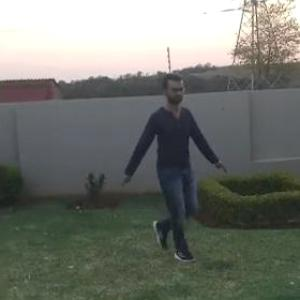land: (104, 66, 229, 276)
